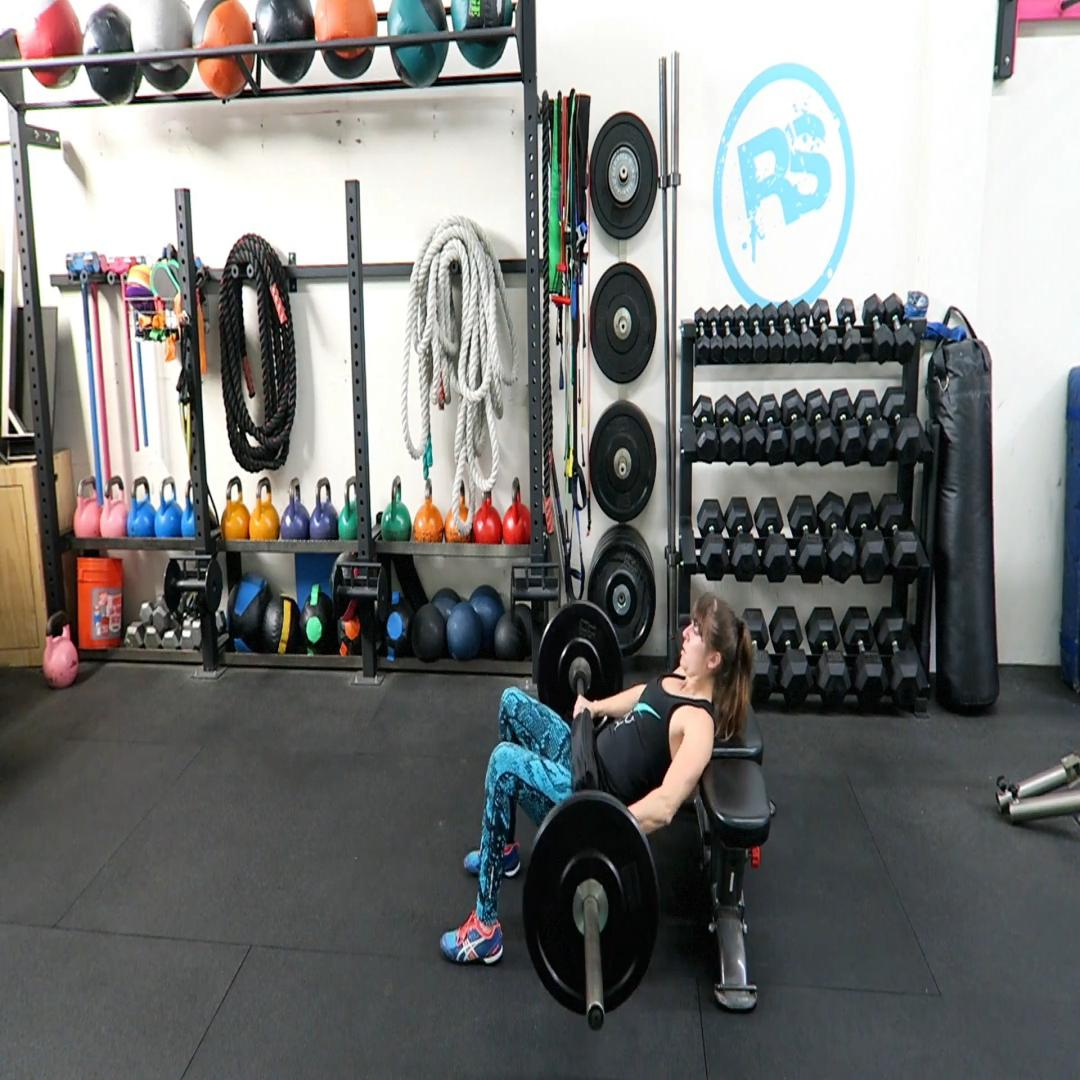Bar: (587, 1002, 605, 1032)
Barbell: (522, 799, 658, 1017)
